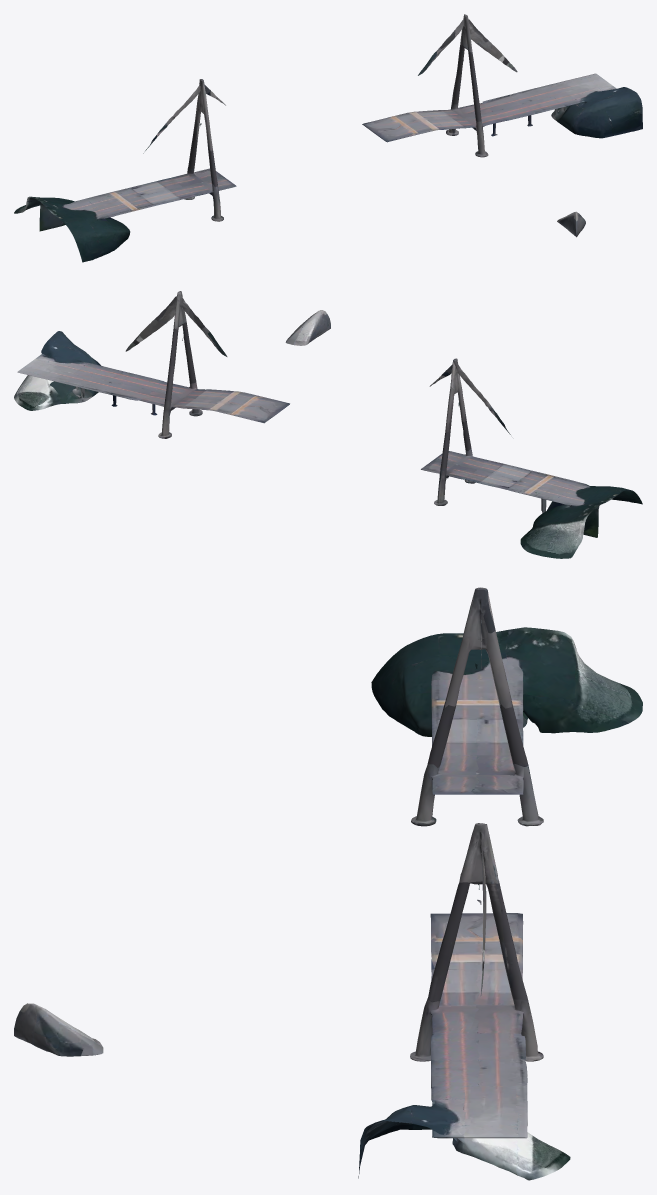
File: construction-04.glb
3 renders of one model, top to bottom at view 1: azimuth 30°, elevation 25°; view 2: azimuth 150°, elevation 25°; view 3: azimuth 270°, elevation 25°, orthographic. The views are drawn at different scales.
Bounding box in the file's own units: 1.9 × 0.4149 × 1.02.
Materials: 1 (1 with a texture image).
